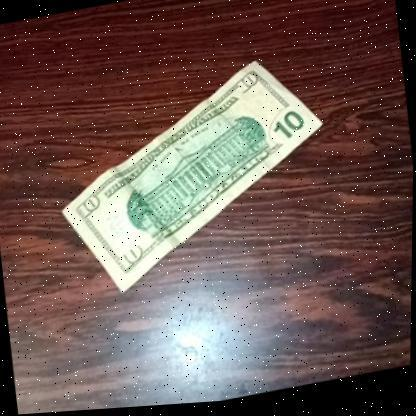dollar_back: (46, 51, 342, 307)
